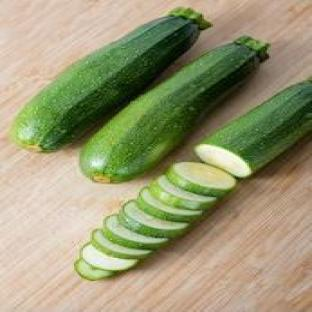Zucchini: (13, 9, 209, 152), (80, 38, 268, 182), (195, 81, 311, 177), (118, 201, 187, 238), (166, 162, 236, 196), (150, 176, 216, 209), (103, 215, 167, 249), (136, 188, 201, 221), (91, 230, 151, 259), (82, 244, 138, 271), (74, 260, 113, 280)
